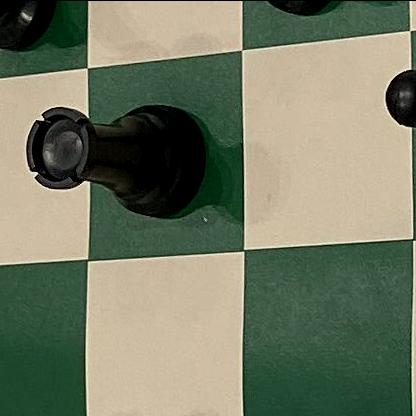black-pawn: (370, 46, 416, 179)
black-rook: (1, 87, 212, 227)
